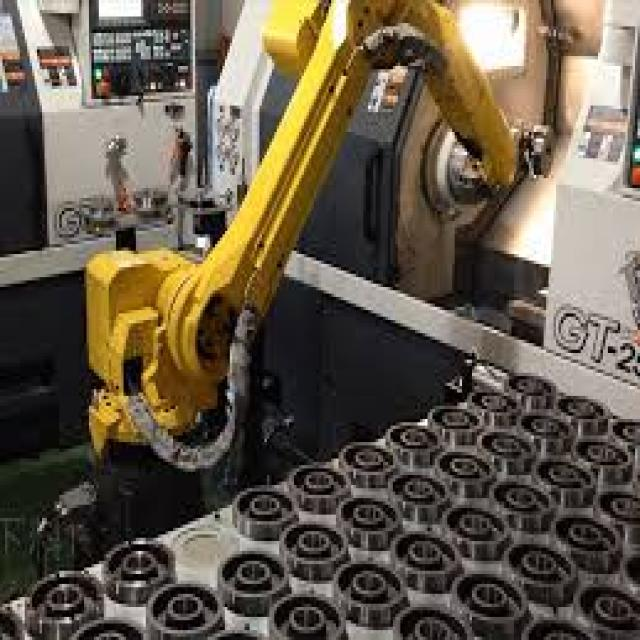Robotic-arm: (81, 0, 522, 459)
